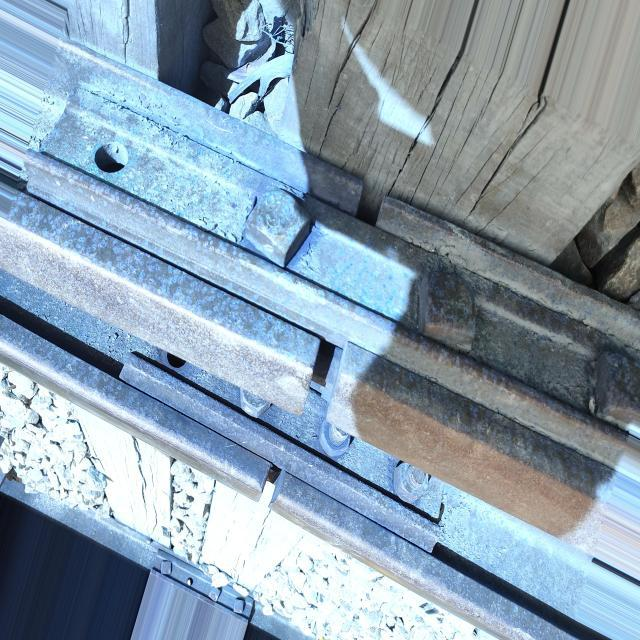Defective Joint: (32, 91, 640, 459)
